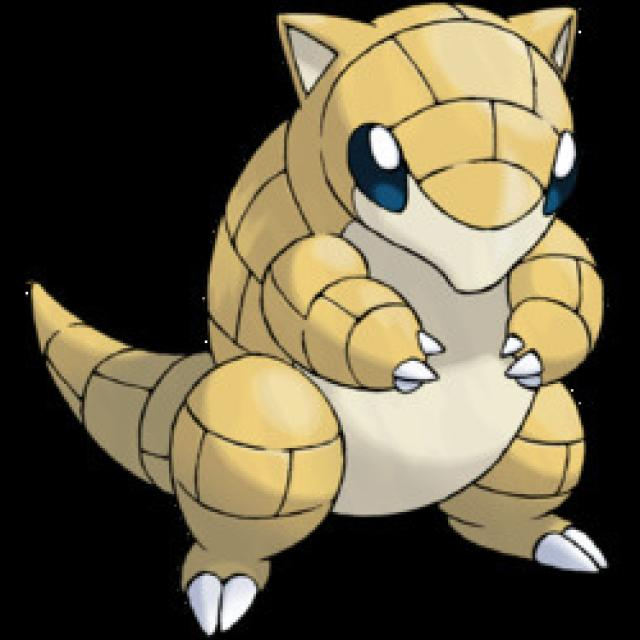Sandshrew: (155, 10, 613, 640)
